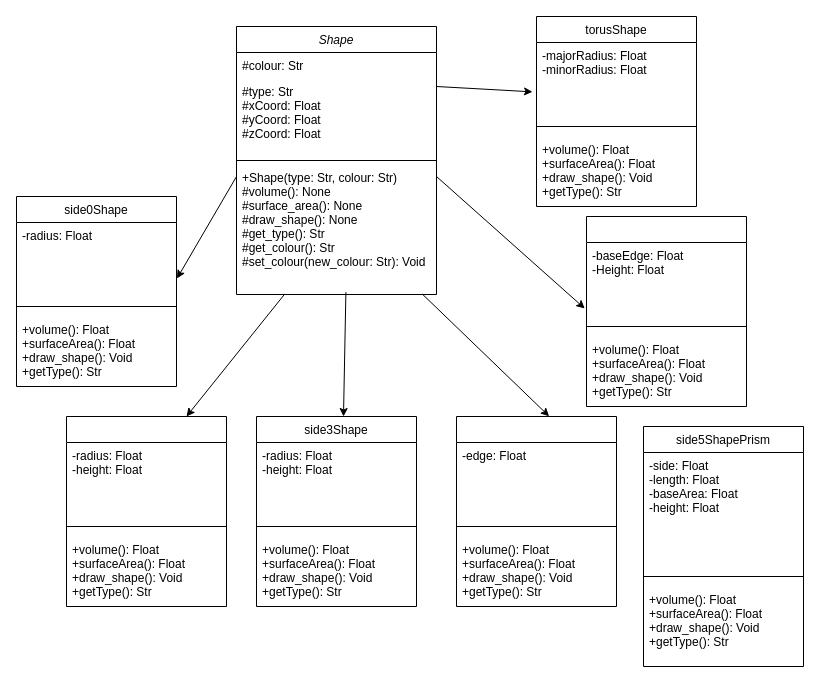
Some shapes in this 820 by 683 pixel diagram are drawn without their labels. The shapes that lost their labels are listed below. From the top down, each one's box as (x1, y1, x2, y2) in pixels, then its label:
(586, 216, 746, 406): side5ShapePyramid
(66, 416, 226, 606): side2Shape
(456, 416, 616, 606): side4Shape
